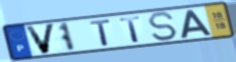1: (57, 21, 78, 53)
A: (180, 9, 213, 39)
S: (146, 11, 180, 42)
T: (88, 18, 113, 47), (118, 15, 143, 44)
V: (23, 22, 58, 55)
